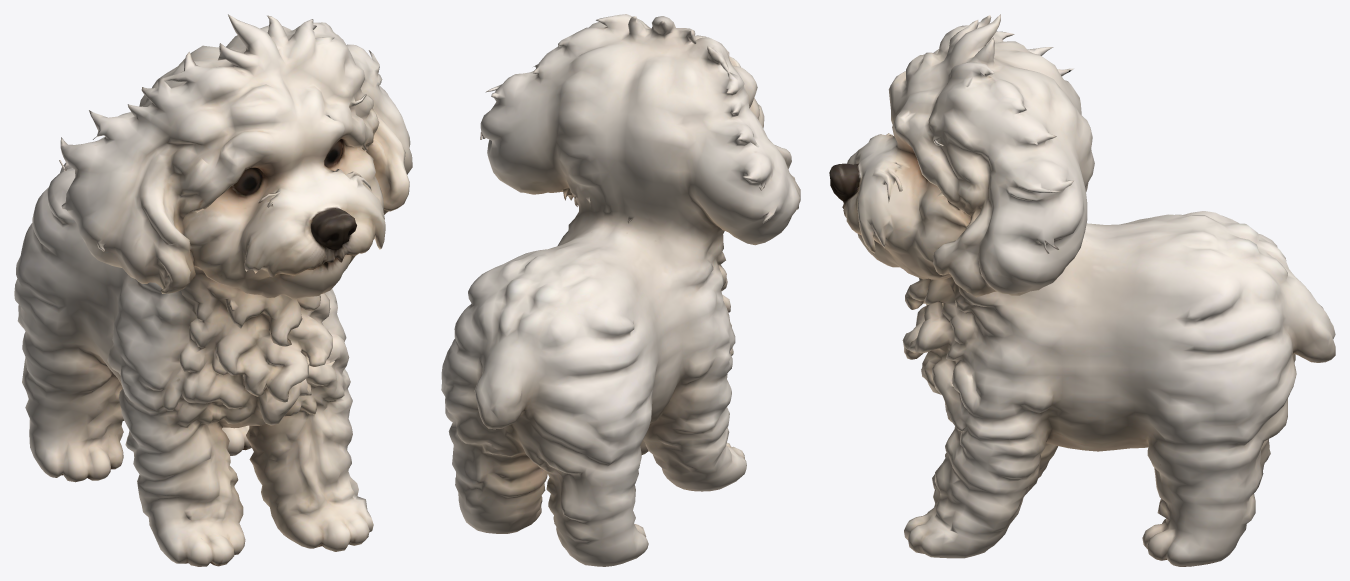
File: animal_dog_lowpoly.glb
3 views of the same model, side by side, from view 1: azimuth 30°, elevation 25°; view 2: azimuth 150°, elevation 25°; view 3: azimuth 270°, elevation 25° (orthographic). The views are drawn at different scales.
Parts seen in each view (by area): view 1: tripo_node_b33ac626-6ebe-4609-907f-01a0e5c17968; view 2: tripo_node_b33ac626-6ebe-4609-907f-01a0e5c17968; view 3: tripo_node_b33ac626-6ebe-4609-907f-01a0e5c17968.
Part boxes in pixels (<box>): tripo_node_b33ac626-6ebe-4609-907f-01a0e5c17968: <box>14,14,412,566</box>; tripo_node_b33ac626-6ebe-4609-907f-01a0e5c17968: <box>441,14,800,566</box>; tripo_node_b33ac626-6ebe-4609-907f-01a0e5c17968: <box>829,14,1335,566</box>.
Bounding box in the file's own units: 0.6543 × 0.9748 × 0.8947.
1 material, 1 textured.
